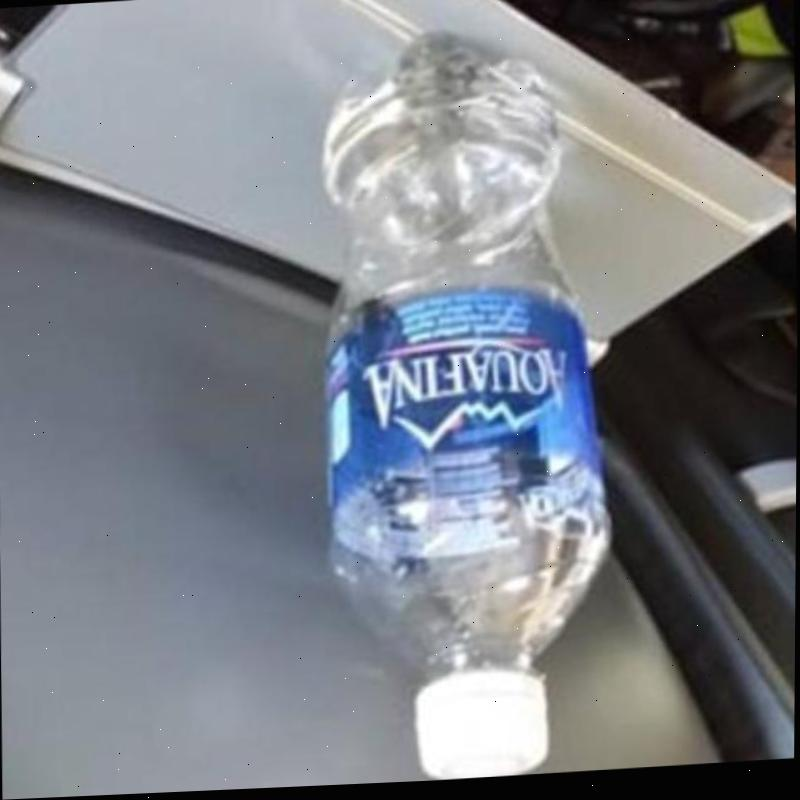botella: (312, 26, 619, 789)
